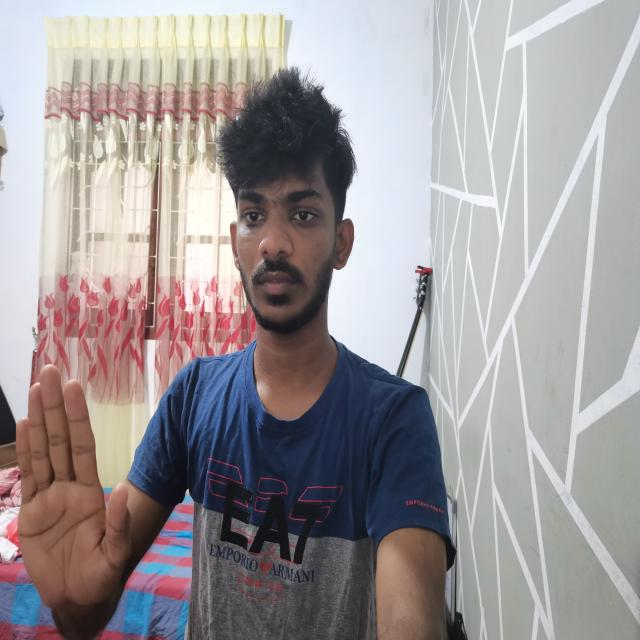Hello: (12, 360, 136, 622)
